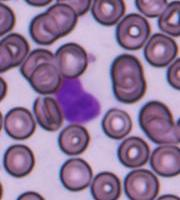M: (52, 75, 102, 127)
